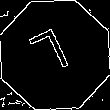L_SE: (31, 26, 79, 84)
